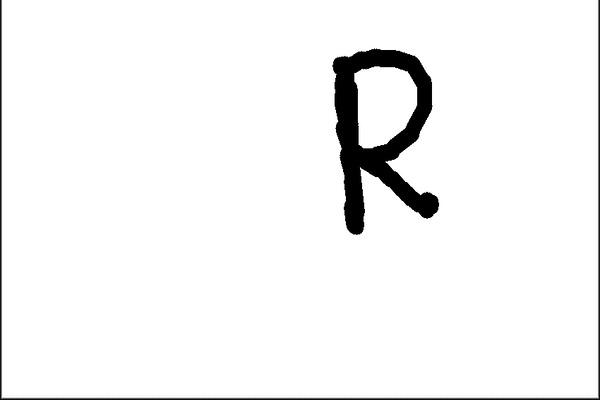R: (303, 37, 453, 243)
